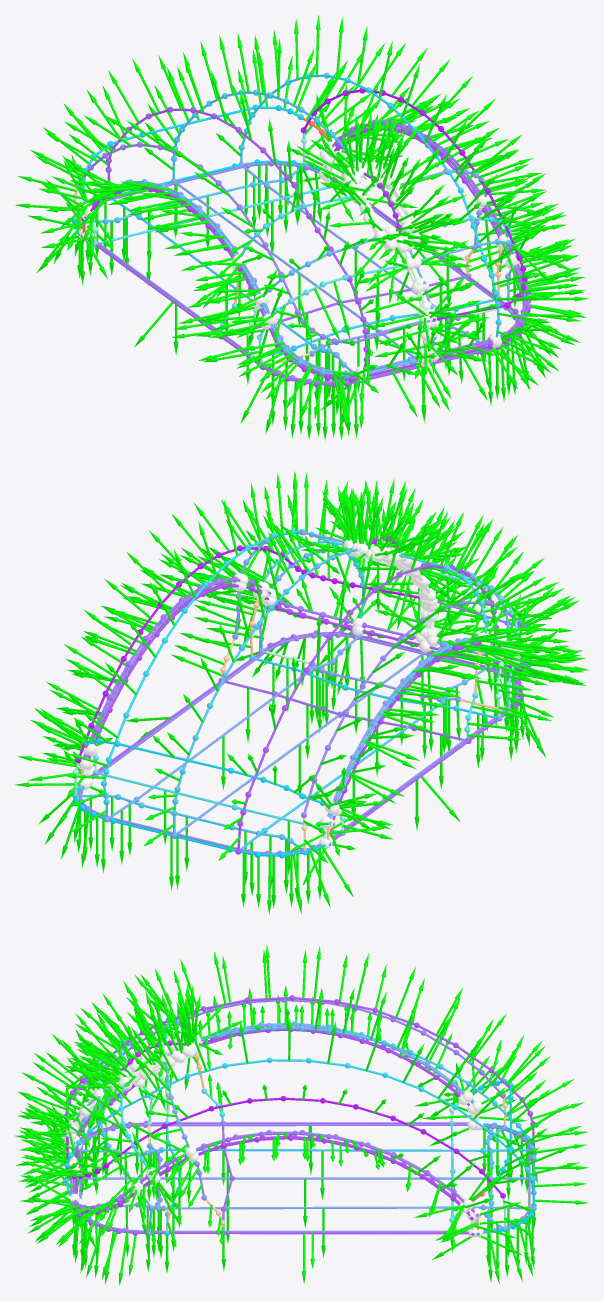
Rendered from flowrep_mouse.gltf.
The picture shows the model from 3 angles, top to bottom: view 1: azimuth 30°, elevation 25°; view 2: azimuth 150°, elevation 25°; view 3: azimuth 270°, elevation 25°; orthographic projection. The views are drawn at different scales.
Bounding box in the file's own units: 0.6631 × 0.4907 × 1.03.
